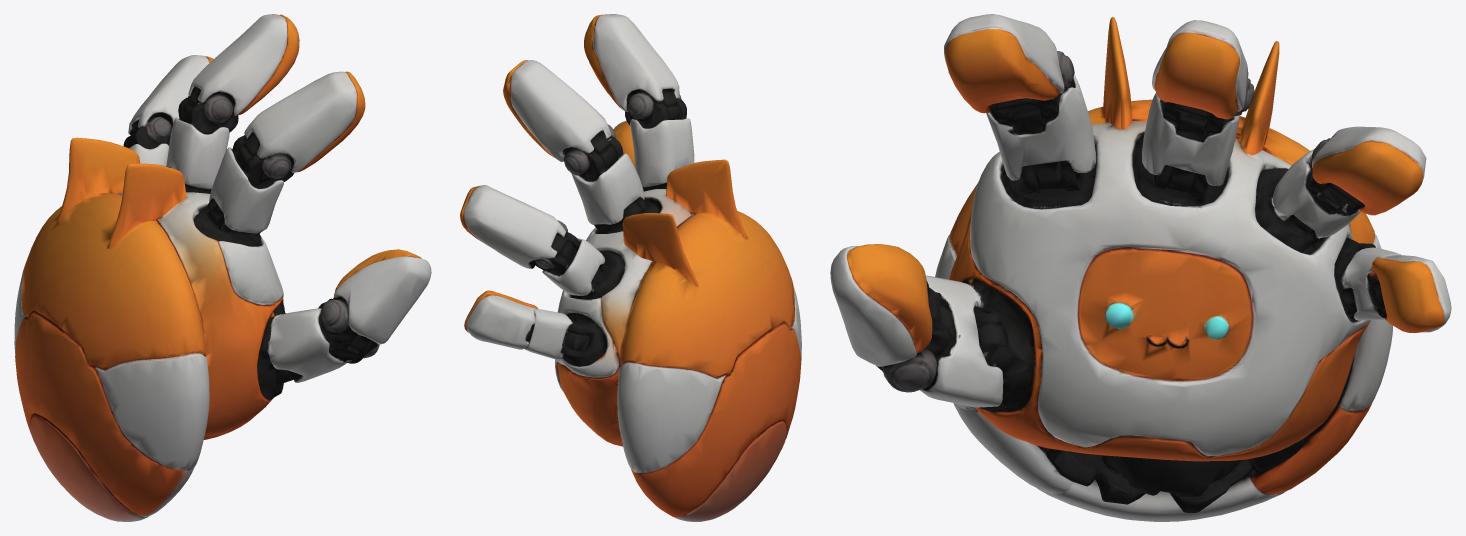
Rendered from janken_p.glb.
3 views of the same model, side by side, from view 1: azimuth 30°, elevation 25°; view 2: azimuth 150°, elevation 25°; view 3: azimuth 270°, elevation 25° (orthographic). The views are drawn at different scales.
Parts seen in each view (by area): view 1: tripo_node_dc64ae75-84bf-40c2-848e-79547133ab22; view 2: tripo_node_dc64ae75-84bf-40c2-848e-79547133ab22; view 3: tripo_node_dc64ae75-84bf-40c2-848e-79547133ab22.
Part boxes in pixels (x1=…): tripo_node_dc64ae75-84bf-40c2-848e-79547133ab22: x1=14, y1=14, x2=431, y2=521; tripo_node_dc64ae75-84bf-40c2-848e-79547133ab22: x1=460, y1=14, x2=801, y2=521; tripo_node_dc64ae75-84bf-40c2-848e-79547133ab22: x1=830, y1=14, x2=1451, y2=521.
Bounding box in the file's own units: 0.6618 × 0.9993 × 0.8959.
1 material, 1 textured.
